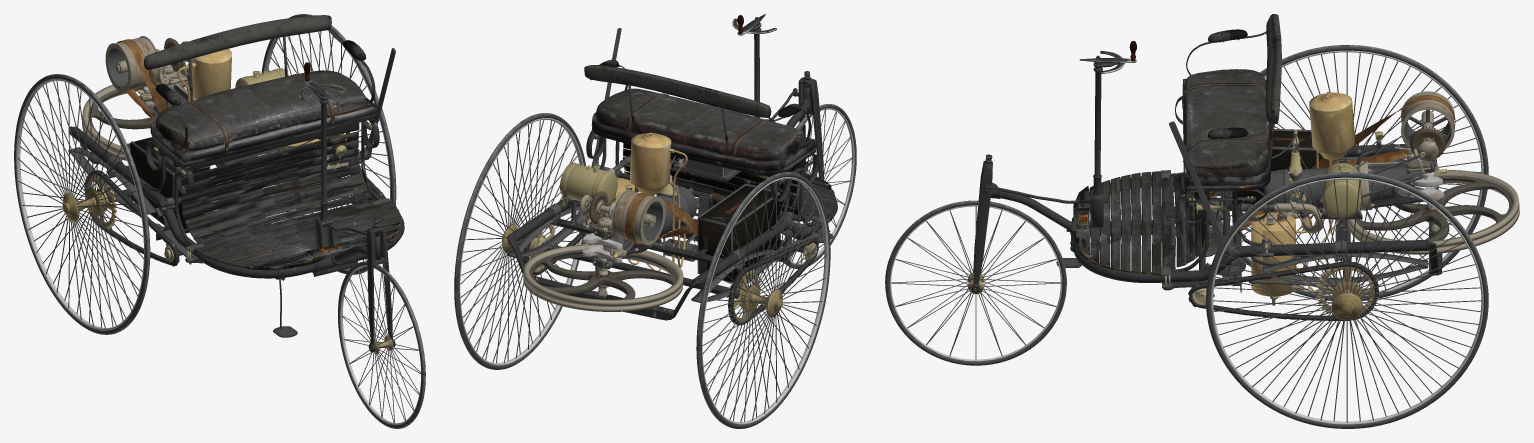
Rendered from motorwagen.glb.
The picture shows the model from 3 angles, left to right: view 1: azimuth 30°, elevation 25°; view 2: azimuth 150°, elevation 25°; view 3: azimuth 270°, elevation 25°; orthographic projection. The views are drawn at different scales.
Parts seen in each view (by area): view 1: Bench, Wheel_front, Engine, Frame, Kette, Lederband; view 2: Engine, Wheel_front, Bench, Frame, Kette, Lederband; view 3: Wheel_front, Bench, Engine, Frame, Kette, Lederband.
Part boxes in pixels (box(x1,y1,x2,y2)): Bench: box(144, 15, 401, 352); Wheel_front: box(14, 14, 425, 428); Engine: box(68, 36, 395, 263); Frame: box(69, 80, 404, 337); Kette: box(84, 170, 385, 266); Lederband: box(116, 39, 251, 230); Engine: box(507, 28, 830, 311); Wheel_front: box(454, 104, 856, 428); Bench: box(584, 14, 836, 230); Frame: box(507, 117, 837, 324); Kette: box(523, 201, 818, 325); Lederband: box(625, 193, 697, 244); Wheel_front: box(885, 45, 1488, 428); Bench: box(971, 14, 1281, 293); Engine: box(1161, 91, 1519, 305); Frame: box(1056, 39, 1442, 316); Kette: box(1188, 192, 1378, 320); Lederband: box(1175, 95, 1455, 235).
Size of the model in its own units: 1.38 by 1.43 by 2.54.
Materials: 6 (5 with a texture image).
